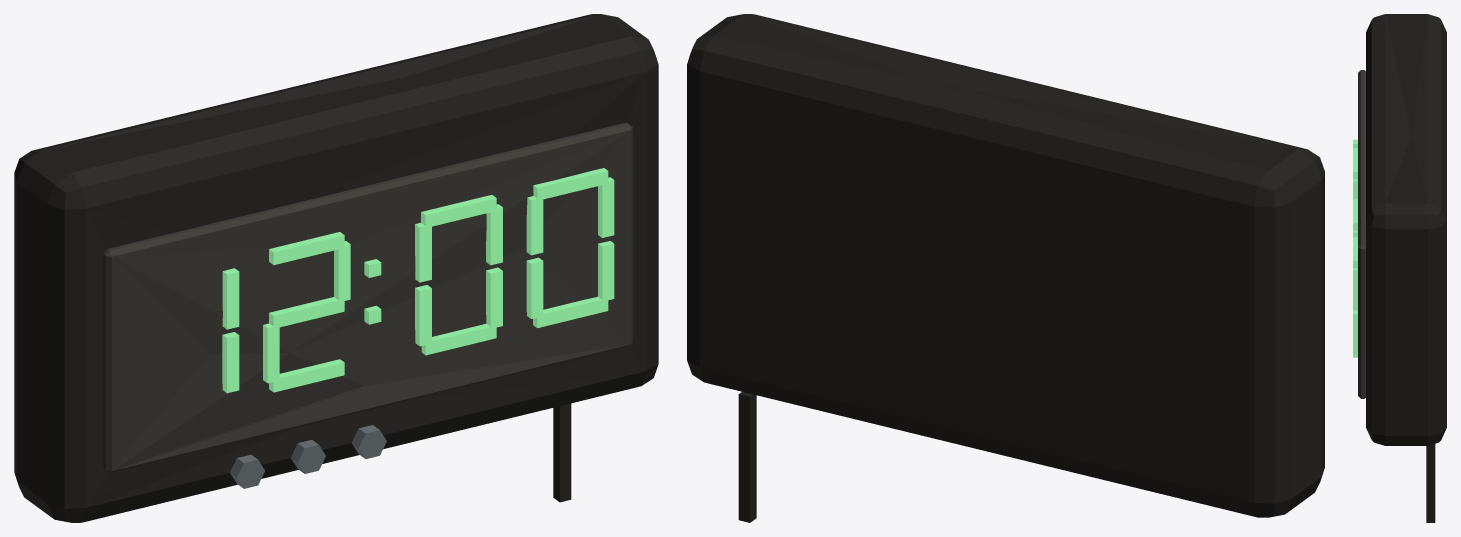
Rendered from clock_wall_elektronnye_idle.glb.
3 renders of one model, left to right at view 1: azimuth 30°, elevation 25°; view 2: azimuth 150°, elevation 25°; view 3: azimuth 270°, elevation 25°, orthographic. The views are drawn at different scales.
Visible parts, largest first — view 1: clock_wall_elektronnye_idle; view 2: clock_wall_elektronnye_idle; view 3: clock_wall_elektronnye_idle.
Boxes of the visible parts, box(x1,y1,x2,y2) form: clock_wall_elektronnye_idle: box(14, 14, 658, 522); clock_wall_elektronnye_idle: box(687, 14, 1324, 522); clock_wall_elektronnye_idle: box(1353, 14, 1446, 522).
Size of the model in its own units: 0.3 by 0.225 by 0.058.
Materials: 2 (2 with a texture image).
